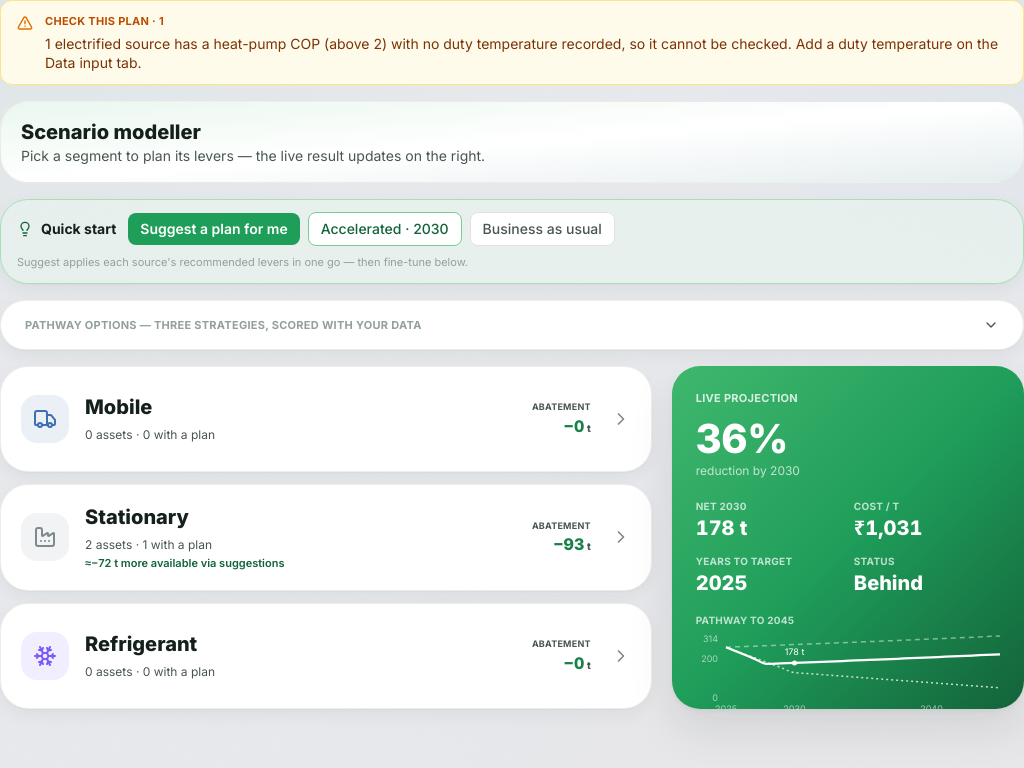
Test case: BuilderTab — one planning card per equipment (Task 7, D3) › renders a planning card per equipment, named after the machine
What coordinates should you click on to do the following:
click the text "Stationary"
I would click on:
 (137, 517)
Its box is 85,505 -> 189,529.
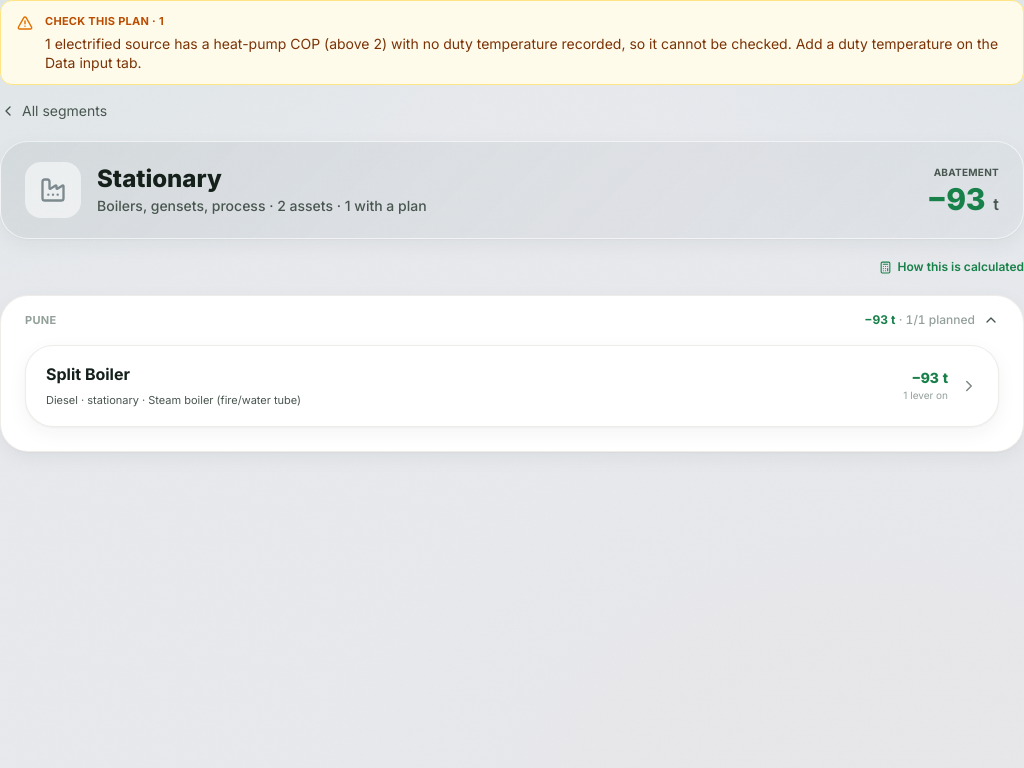
What coordinates should you click on to do the following:
click the text "Split Boiler"
I would click on:
 (88, 374)
Its box is 46,362 -> 130,386.
(page scrolled)
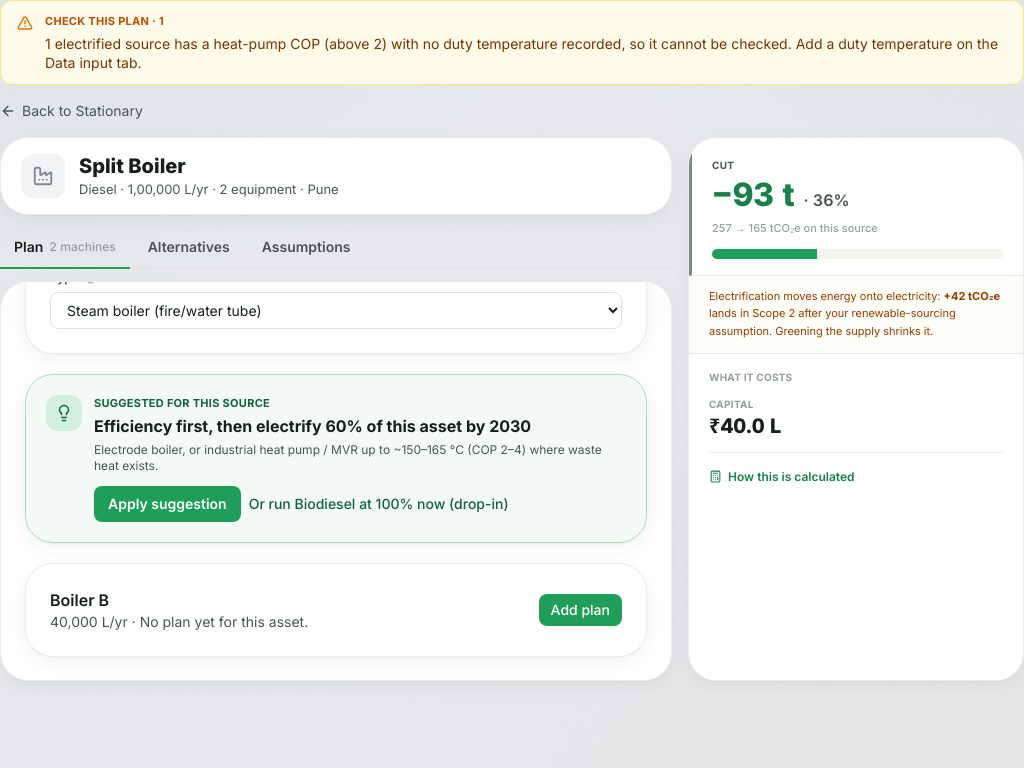
Check: the heading "Boiler B" is shown, box 50,590 -> 109,610
